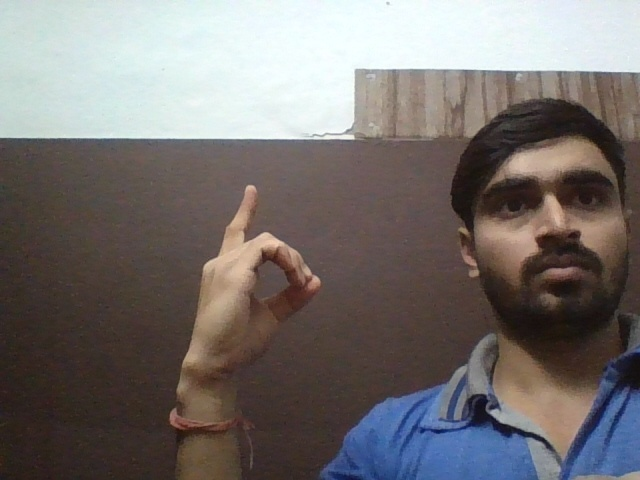D: (182, 175, 331, 361)
